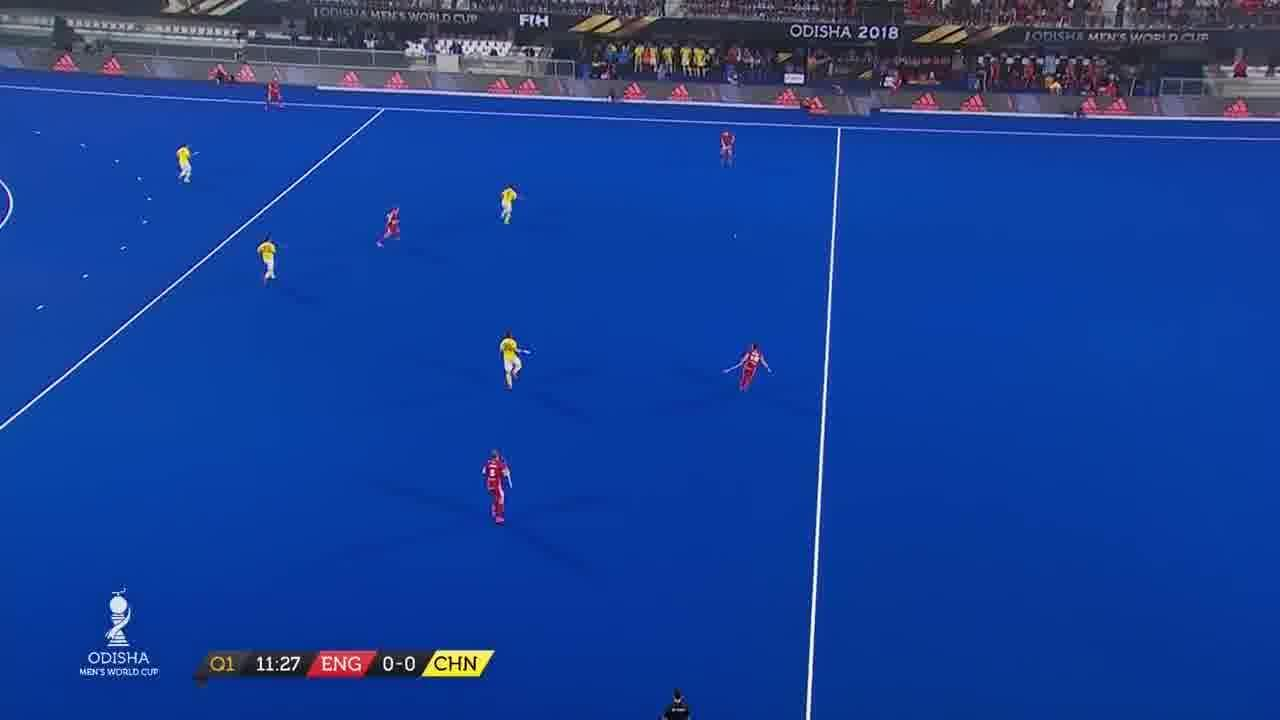ball: (729, 230, 739, 242)
